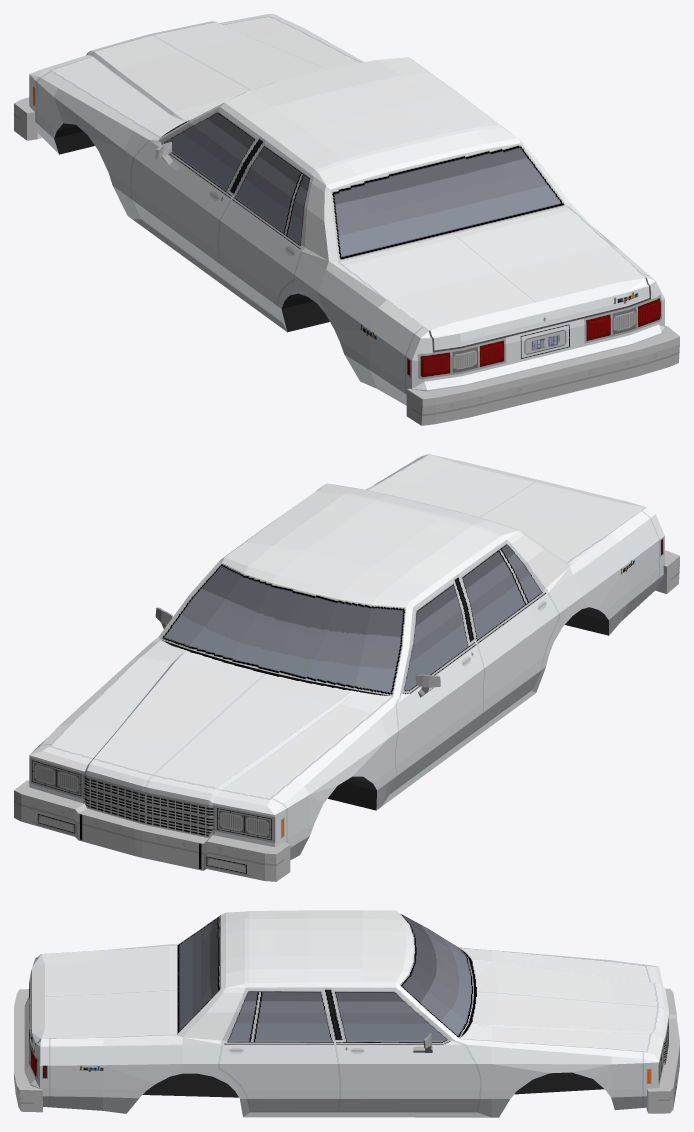
File: 85impala.fbx
3 renders of one model, top to bottom at view 1: azimuth 30°, elevation 25°; view 2: azimuth 150°, elevation 25°; view 3: azimuth 270°, elevation 25°, orthographic. The views are drawn at different scales.
Visible parts, largest first — view 1: 85impala; view 2: 85impala; view 3: 85impala.
Part boxes in pixels (left/top/right/bottom): 85impala: left=14, top=14, right=679, bottom=425; 85impala: left=14, top=454, right=679, bottom=881; 85impala: left=14, top=910, right=679, bottom=1117.
Bounding box in the file's own units: 2.12 × 1.12 × 5.37.
